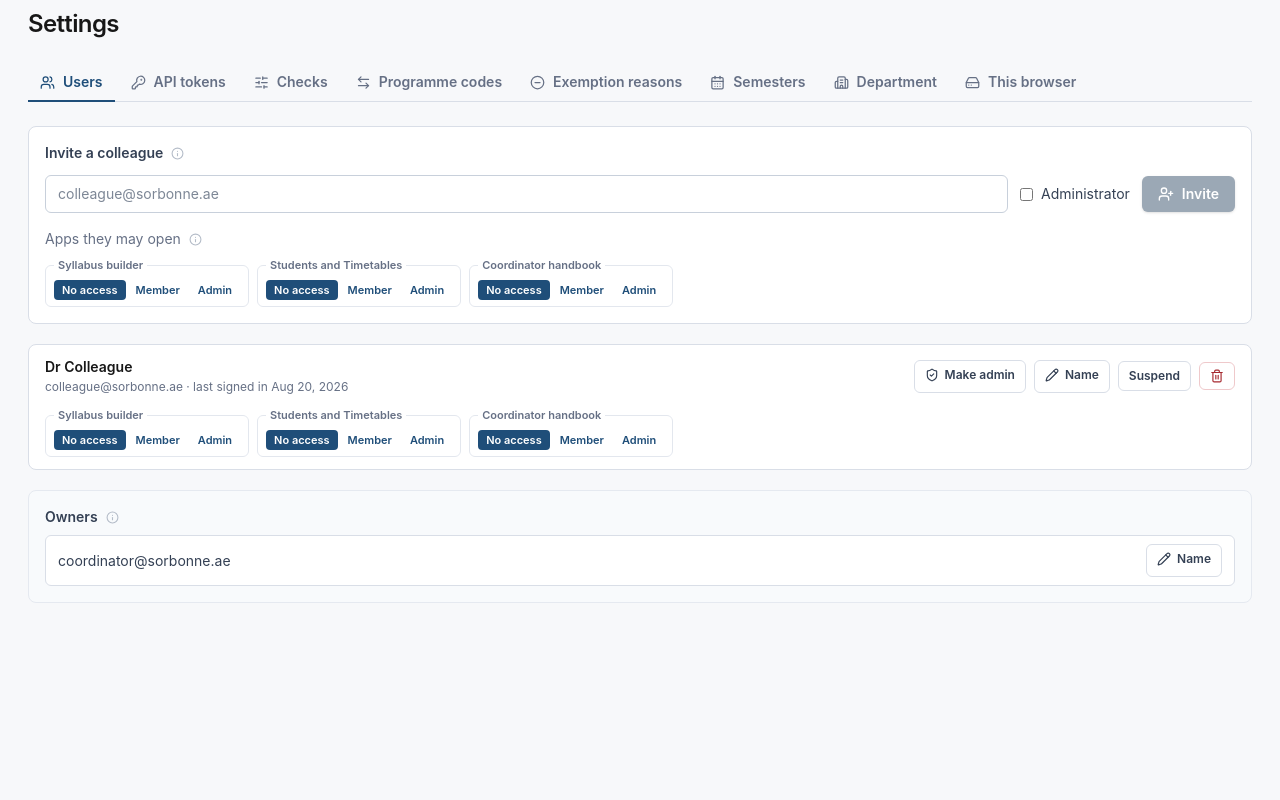
Test: naming an owner › offers a name for somebody the environment admits
Expected: the heading "Owners" is shown, [45,508,121,526]
# The owner's row is the last one that offers a name.
Step 1. Click the button "Name" in the row of "coordinator@sorbonne.ae" → (1184, 560), box [1146,544,1222,577]
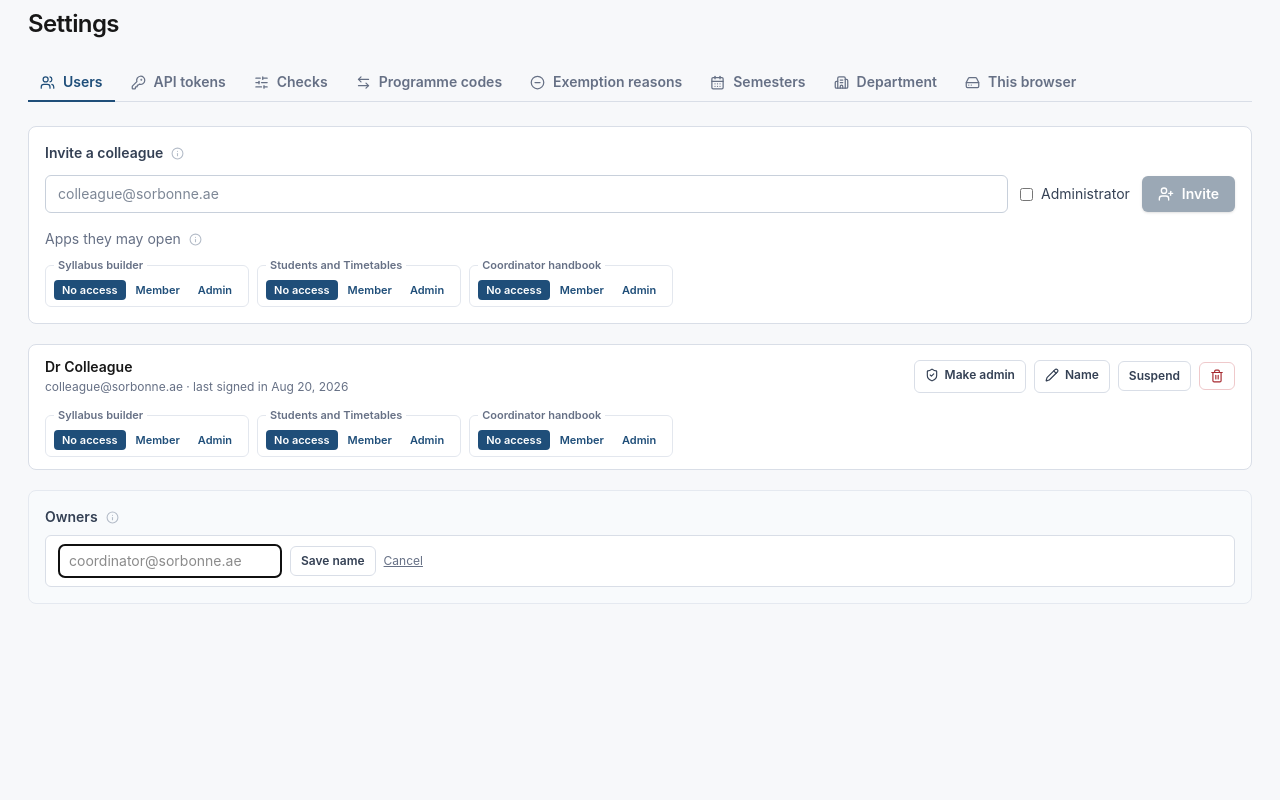
Step 2. Type "Christian Cayralat" into the field with placeholder "coordinator@sorbonne.ae" → (170, 561), box [58,544,282,578]
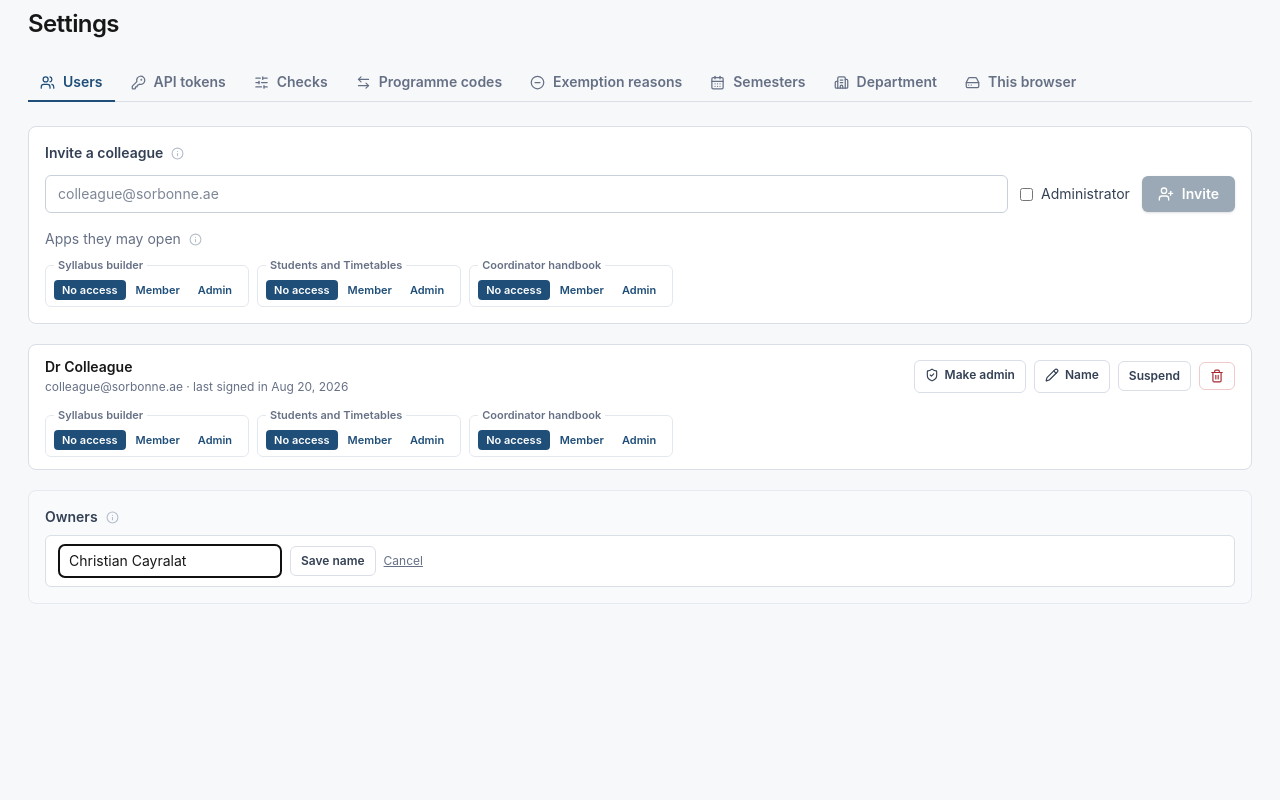
Step 3. Click the button "Save name" → (333, 561), box [290,546,376,576]
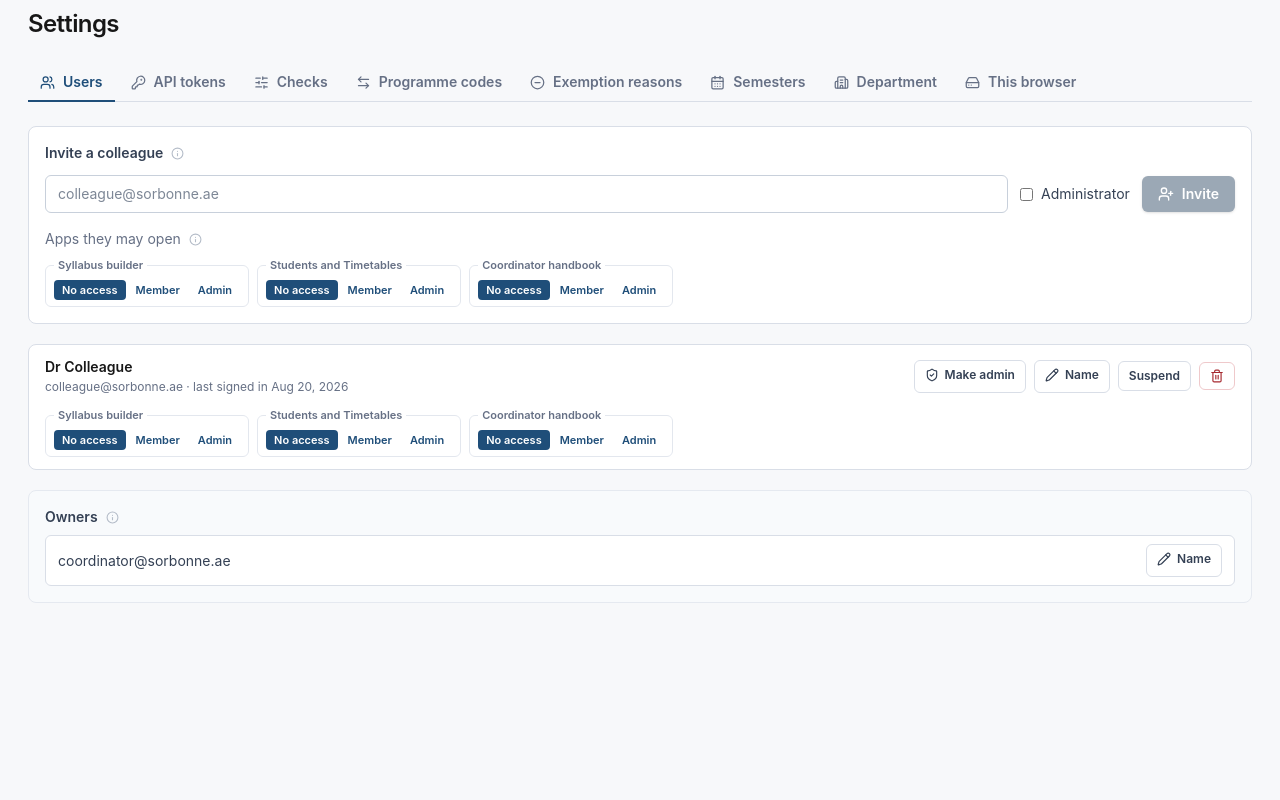
Expected: the text "coordinator@sorbonne.ae" is shown, [58,552,231,568]
